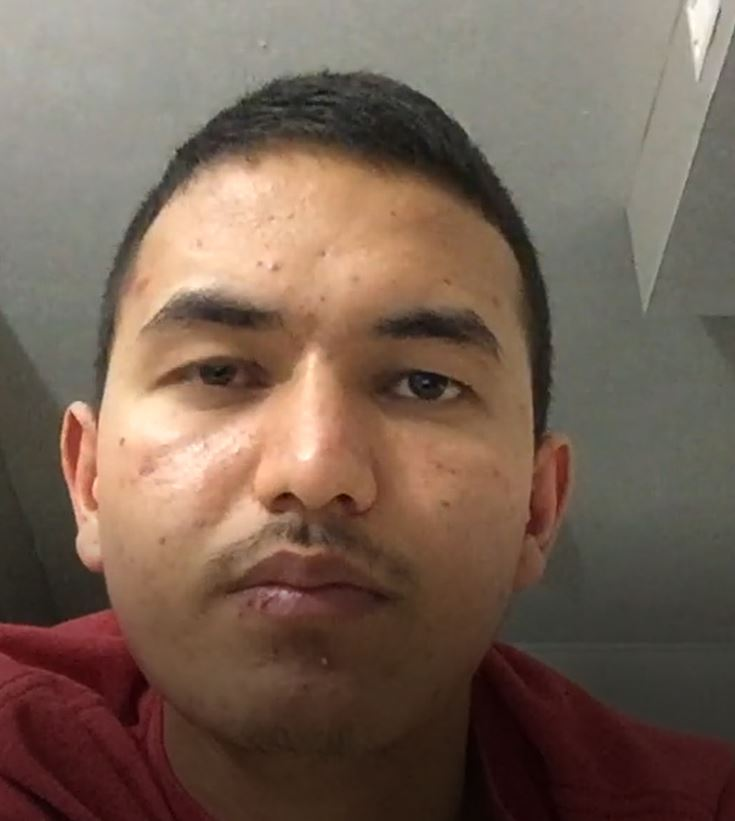Not Sleeping: (130, 334, 517, 435)
